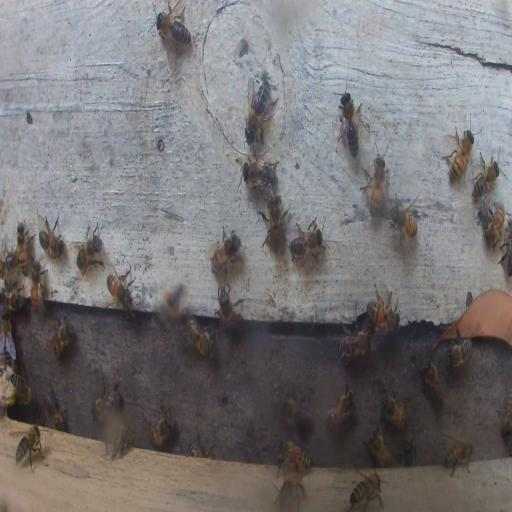nonpollenbee: (244, 80, 276, 142), (156, 2, 192, 53), (445, 125, 476, 184), (336, 90, 363, 157), (363, 144, 387, 218), (73, 220, 104, 276), (260, 192, 288, 252), (470, 148, 501, 202), (323, 382, 356, 431), (388, 194, 419, 246), (274, 390, 312, 432), (210, 225, 242, 274), (289, 218, 324, 262), (90, 379, 122, 423), (36, 212, 65, 260), (184, 314, 215, 358), (350, 470, 382, 511), (14, 425, 42, 471), (274, 440, 312, 472), (277, 472, 308, 510), (106, 268, 134, 310), (443, 438, 473, 477), (367, 422, 391, 470), (217, 282, 240, 332), (242, 158, 278, 189), (380, 389, 407, 430), (338, 328, 370, 362), (148, 404, 172, 448), (367, 302, 399, 334), (105, 426, 136, 459), (485, 202, 505, 251), (16, 222, 34, 274), (444, 338, 472, 368), (422, 359, 443, 399), (52, 318, 72, 359), (8, 371, 33, 402), (48, 394, 69, 430), (188, 431, 214, 458), (30, 266, 44, 316), (1, 286, 25, 314), (1, 314, 15, 356), (400, 440, 418, 467), (3, 252, 17, 277)
pollenbee: (159, 278, 186, 336)
